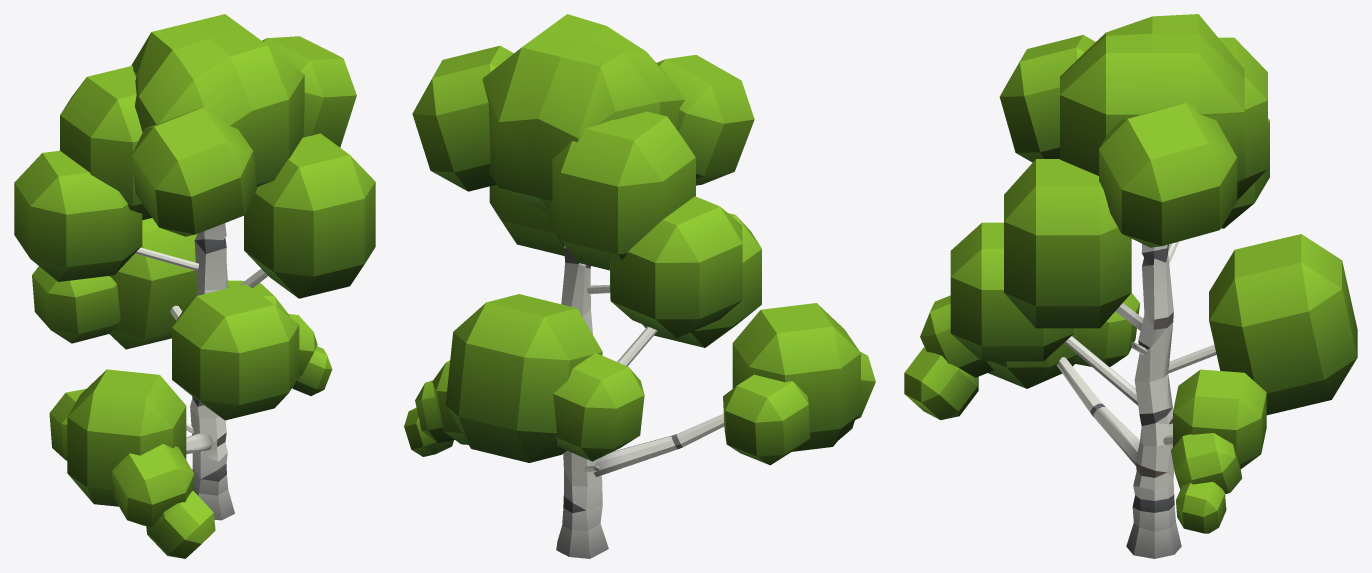
Rendered from xiangshu2.FBX.
3 renders of one model, left to right at view 1: azimuth 30°, elevation 25°; view 2: azimuth 150°, elevation 25°; view 3: azimuth 270°, elevation 25°, orthographic. The views are drawn at different scales.
Visible parts, largest first — view 1: SilverBirchTreeMedium_01 - Default_0; view 2: SilverBirchTreeMedium_01 - Default_0; view 3: SilverBirchTreeMedium_01 - Default_0.
Boxes of the visible parts, x1,y1,x2,y2 form: SilverBirchTreeMedium_01 - Default_0: (14, 14, 375, 558); SilverBirchTreeMedium_01 - Default_0: (404, 14, 875, 558); SilverBirchTreeMedium_01 - Default_0: (904, 14, 1357, 558).
Bounding box in the file's own units: 43.03 × 57.6 × 46.1.
